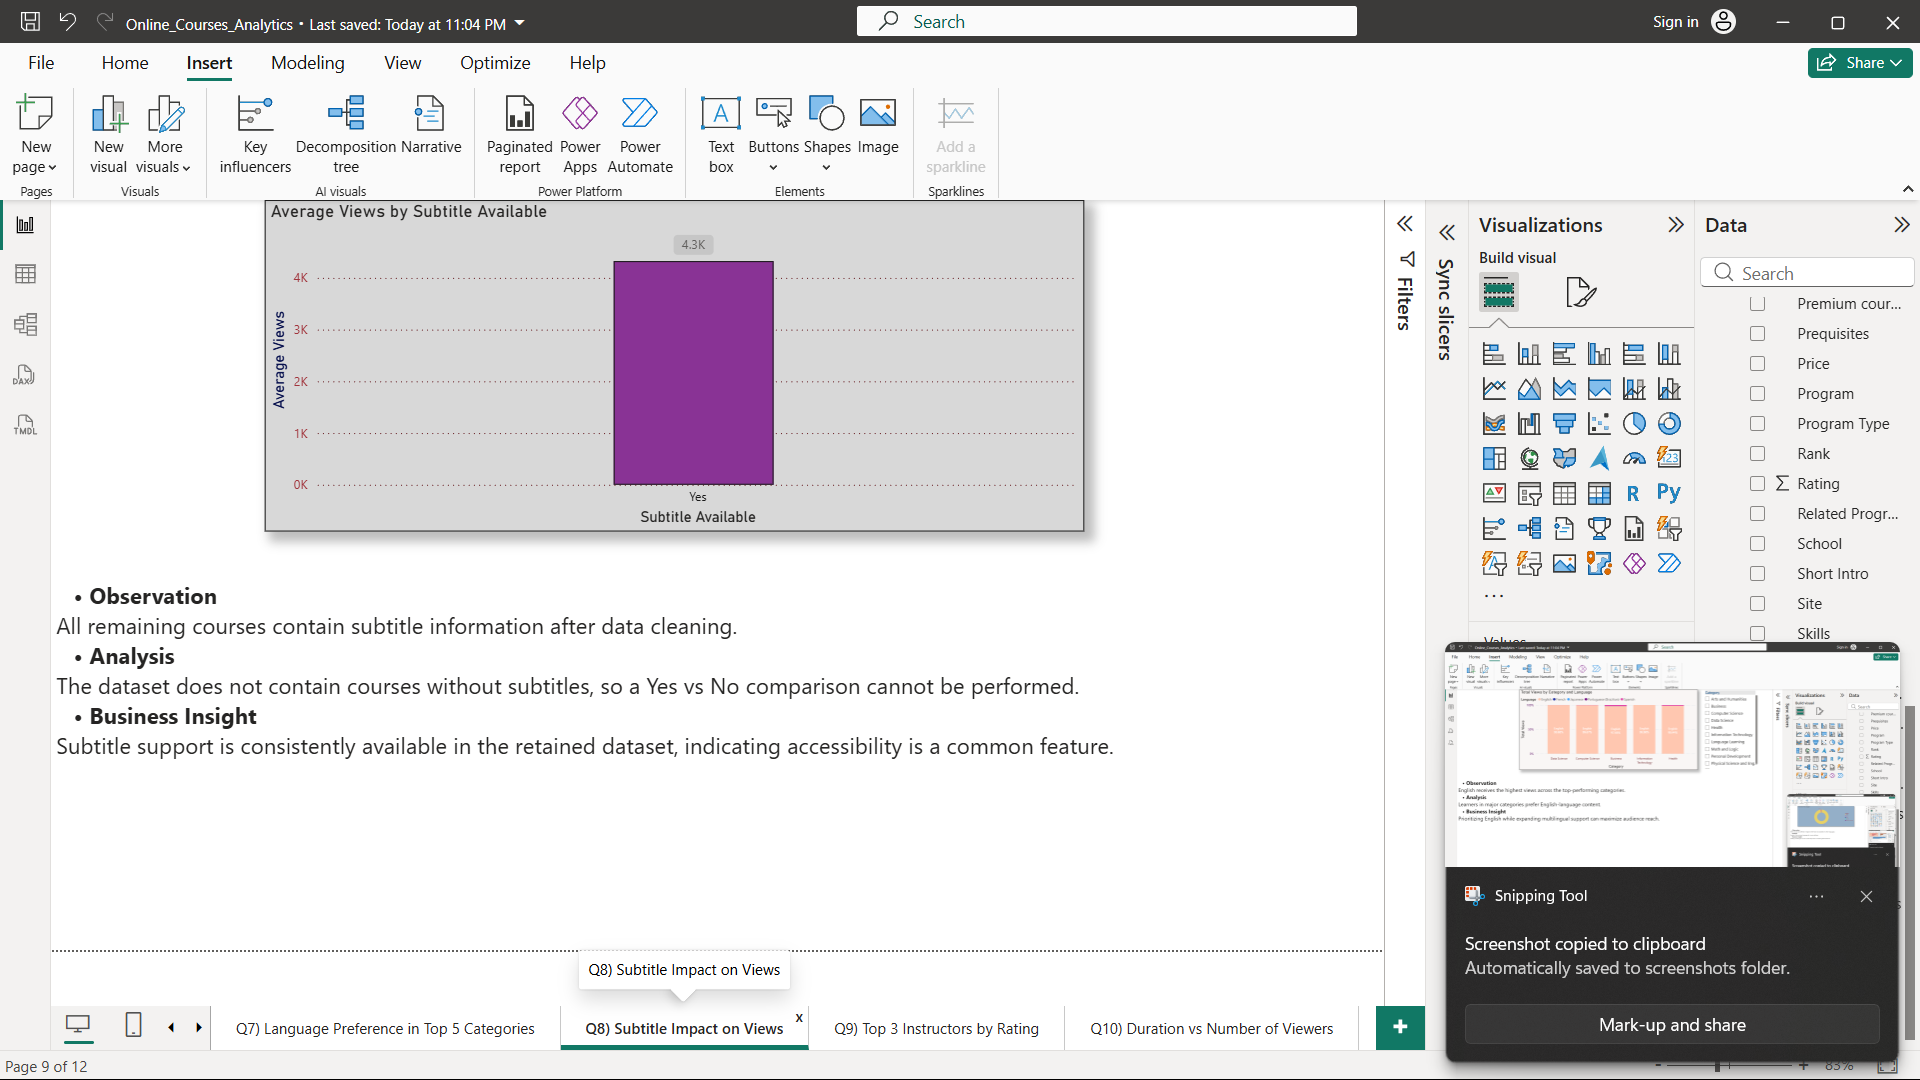

The page's visual inventory and layout, read from the dashboard file:
{"tool":"powerbi","page":{"name":"Q8)  Subtitle Impact on Views","canvas":[1280,720],"ordinal":8},"visuals":[{"type":"clusteredColumnChart","fields":{"Category":["Online_Courses.Subtitle Available"],"Y":["Online_Courses.Average Views"]},"box":[205,0,787.5,318.8],"z":0},{"type":"textbox","box":[0,360,1038.6,205.7],"z":1000}]}

Visuals, with their boxes on the page's 1280x720 design canvas (x1, y1, x2, y2). These are canvas units, not pixel positions in the 1920x1080 screenshot, which may show the page scaled, cropped or inside an application window:
clusteredColumnChart - Online_Courses.Subtitle Available x Online_Courses.Average Views: [x1=205, y1=0, x2=992, y2=319]
textbox: [x1=0, y1=360, x2=1039, y2=566]
